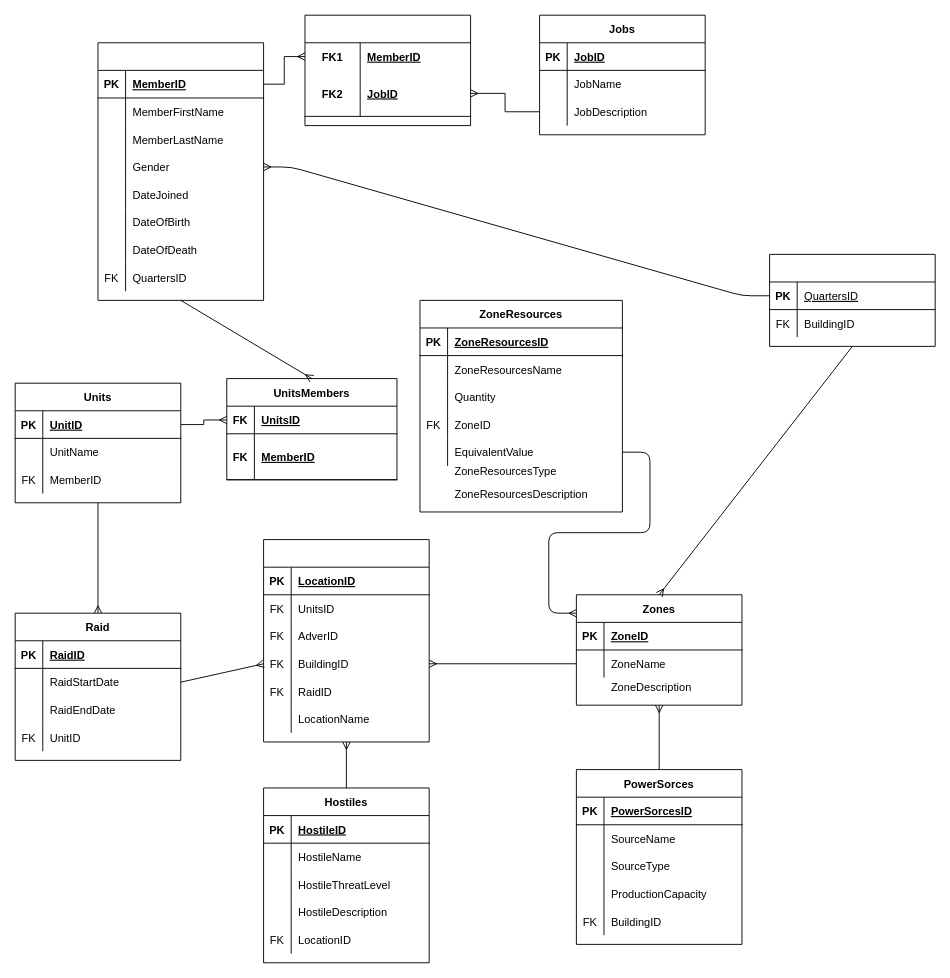
This 950x978 diagram has some shape labels left out. Here are the shapes that lost their labels. From the top down, the box of each, then its label:
(304, 14, 471, 126): MembersJob
(97, 42, 264, 300): Members
(769, 253, 935, 346): LivingQuarters
(263, 539, 429, 742): Locations
